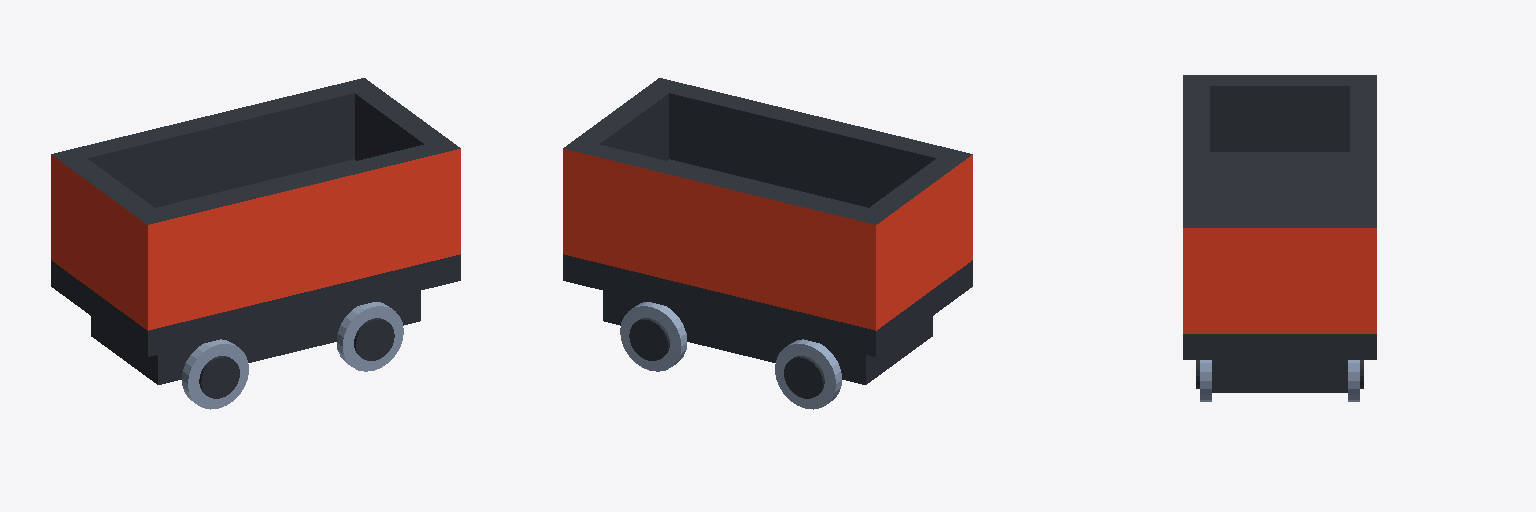
The model's file is trainTender.obj.
The picture shows the model from 3 angles: view 1: azimuth 30°, elevation 25°; view 2: azimuth 150°, elevation 25°; view 3: azimuth 270°, elevation 25°; orthographic projection.
Visible parts, largest first — view 1: trainTender; view 2: trainTender; view 3: trainTender.
Part boxes in pixels (x1,y1,x2,y2): trainTender: (51,78,460,409); trainTender: (563,78,972,409); trainTender: (1183,75,1376,401).
Bounding box in the file's own units: 0.2484 × 0.1584 × 0.1327.